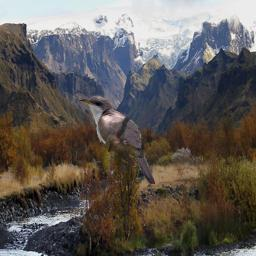Cuckoo: (77, 93, 155, 187)
